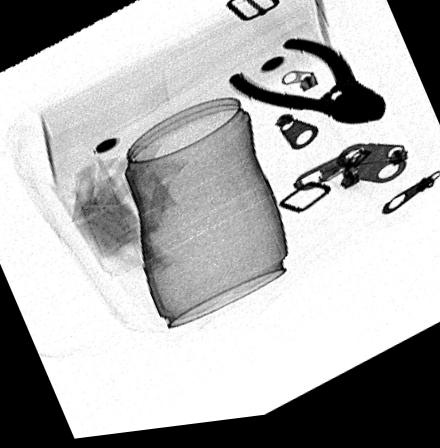Pliers: (223, 43, 386, 133)
